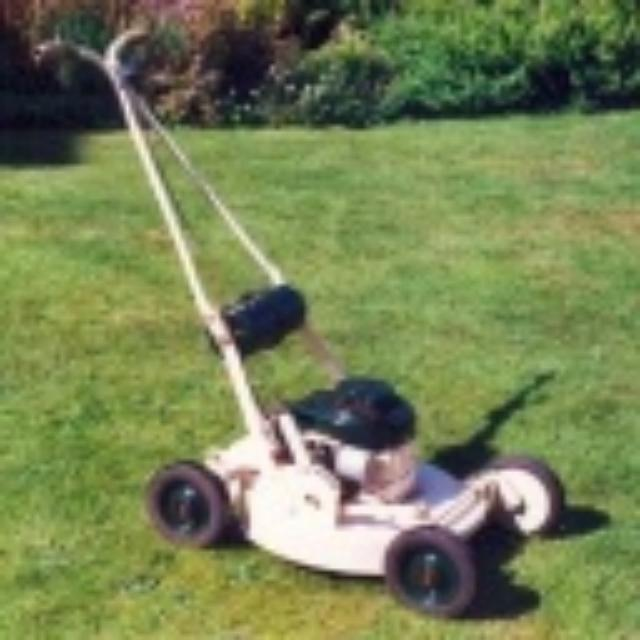Rotary-Mower: (61, 22, 605, 630)
